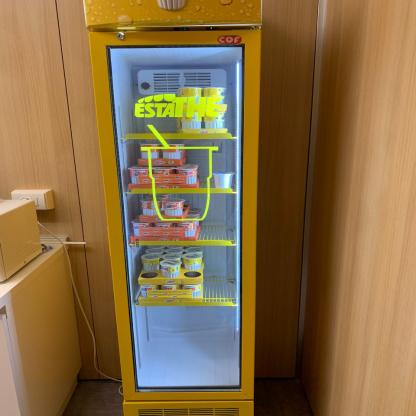pot: (178, 117, 198, 135), (209, 113, 226, 130), (162, 264, 180, 277)
